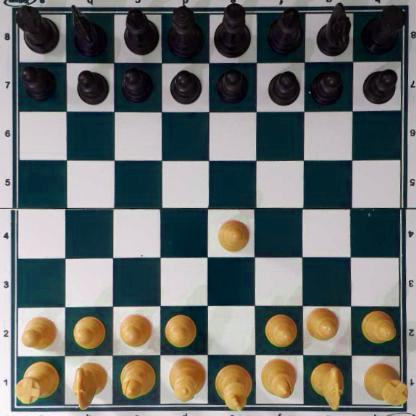black-bishop: (267, 5, 303, 53), (123, 7, 159, 54)
black-king: (212, 2, 250, 57)
black-knight: (71, 4, 106, 57), (317, 1, 350, 57)
black-pawn: (362, 67, 397, 104), (311, 67, 343, 104), (22, 65, 56, 99), (170, 67, 202, 103), (216, 67, 248, 103), (76, 67, 107, 104), (268, 69, 300, 104), (121, 66, 152, 101)
black-queen: (167, 5, 205, 56)
black-rook: (14, 6, 60, 52), (361, 5, 404, 53)
white-bishop: (261, 357, 296, 400), (119, 358, 154, 400)
white-king: (217, 361, 249, 411)
white-knight: (310, 361, 343, 411), (74, 361, 106, 410)
white-pawn: (20, 315, 58, 348), (360, 310, 396, 344), (118, 312, 151, 347), (216, 218, 250, 251), (263, 313, 296, 346), (307, 307, 339, 341), (165, 313, 197, 346), (73, 315, 105, 348)
white-queen: (169, 354, 204, 404)
white-rook: (14, 360, 59, 403), (363, 362, 408, 405)
